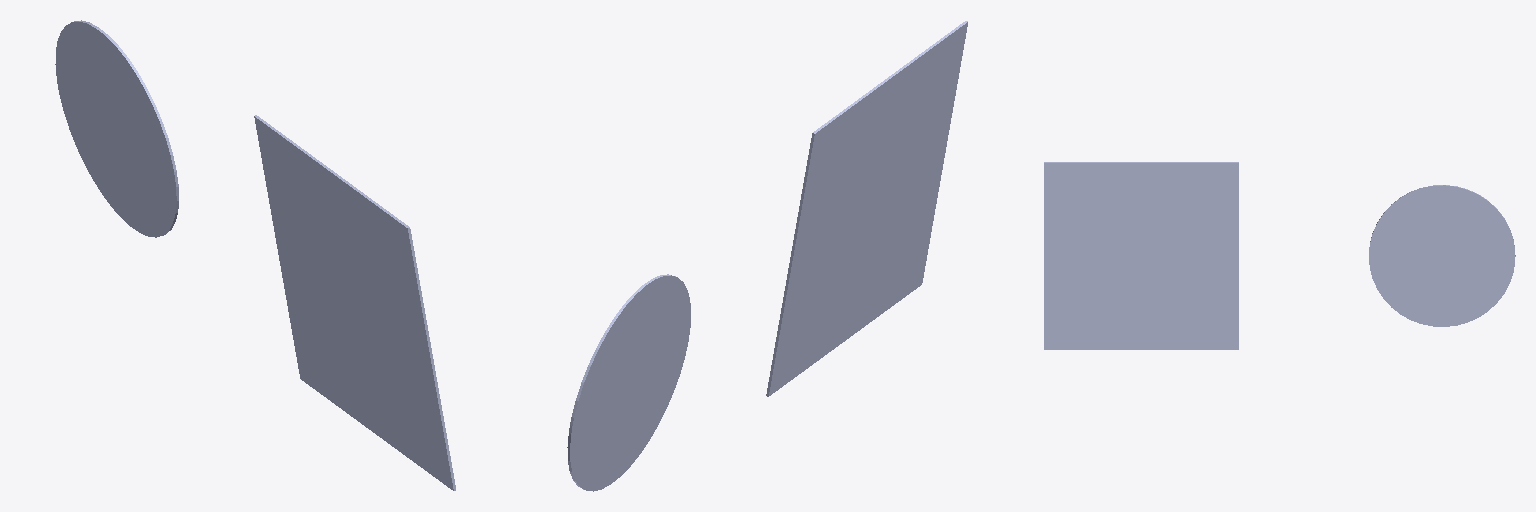
robot.urdf — freight:
<robot name="freight">
  <link name="base_link">
    <inertial>
      <origin rpy="0 0 0" xyz="-0.0036 0.0 0.0014" />
      <mass value="70.1294" />
      <inertia ixx="1.225" ixy="0.0099" ixz="0.0062" iyy="1.2853" iyz="-0.0034" izz="0.987" />
    </inertial>
    <visual>
      <origin rpy="0 0 0" xyz="0 0 0" />
      <geometry>
        <mesh filename="package://fetch_description/meshes/base_link.dae" />
      </geometry>
      <material name="">
        <color rgba="0.356 0.361 0.376 1" />
      </material>
    </visual>
    <collision>
      <origin rpy="0 0 0" xyz="0 0 0" />
      <geometry>
        <mesh filename="package://fetch_description/meshes/base_link_collision.STL" />
      </geometry>
    </collision>
  </link>
  <link name="r_wheel_link">
    <inertial>
      <origin rpy="0 0 0" xyz="0 0 0" />
      <mass value="4.3542" />
      <inertia ixx="0.0045" ixy="0" ixz="0" iyy="0.005" iyz="0" izz="0.0045" />
    </inertial>
    <visual>
      <origin rpy="0 0 0" xyz="0 0 0" />
      <geometry>
        <mesh filename="package://fetch_description/meshes/r_wheel_link.STL" />
      </geometry>
      <material name="">
        <color rgba="0.086 0.506 0.767 1" />
      </material>
    </visual>
    <collision>
      <origin rpy="0 0 0" xyz="0 0 0" />
      <geometry>
        <mesh filename="package://fetch_description/meshes/r_wheel_link_collision.STL" />
      </geometry>
    </collision>
  </link>
  <joint name="r_wheel_joint" type="continuous">
    <origin rpy="-6.123E-17 0 0" xyz="0.0012914 -0.18738 0.055325" />
    <parent link="base_link" />
    <child link="r_wheel_link" />
    <axis xyz="0 1 0" />
  <limit effort="8.85" velocity="34.8" /></joint>
  <link name="l_wheel_link">
    <inertial>
      <origin rpy="0 0 0" xyz="0 0 0" />
      <mass value="4.3542" />
      <inertia ixx="0.0045" ixy="0" ixz="0" iyy="0.005" iyz="0" izz="0.0045" />
    </inertial>
    <visual>
      <origin rpy="0 0 0" xyz="0 0 0" />
      <geometry>
        <mesh filename="package://fetch_description/meshes/l_wheel_link.STL" />
      </geometry>
      <material name="">
        <color rgba="0.086 0.506 0.767 1" />
      </material>
    </visual>
    <collision>
      <origin rpy="0 0 0" xyz="0 0 0" />
      <geometry>
        <mesh filename="package://fetch_description/meshes/l_wheel_link_collision.STL" />
      </geometry>
    </collision>
  </link>
  <joint name="l_wheel_joint" type="continuous">
    <origin rpy="-6.123E-17 0 0" xyz="0.0012914 0.18738 0.055325" />
    <parent link="base_link" />
    <child link="l_wheel_link" />
    <axis xyz="0 1 0" />
  <limit effort="8.85" velocity="34.8" /></joint>
  <link name="estop_link">
    <inertial>
      <origin rpy="0 0 0" xyz="0.002434512737072 -0.00330608315239905 0.00665139196650039" />
      <mass value="0.00196130439134723" />
      <inertia ixx="3.02810026604417E-07" ixy="-1.5862023118056E-08" ixz="3.16561396557437E-08" iyy="2.93322917127605E-07" iyz="-4.28833522751273E-08" izz="2.28513272627183E-07" />
    </inertial>
    <visual>
      <origin rpy="0 0 0" xyz="0 0 0" />
      <geometry>
        <mesh filename="package://fetch_description/meshes/estop_link.STL" />
      </geometry>
      <material name="">
        <color rgba="0.8 0 0 1" />
      </material>
    </visual>
    <collision>
      <origin rpy="0 0 0" xyz="0 0 0" />
      <geometry>
        <mesh filename="package://fetch_description/meshes/estop_link.STL" />
      </geometry>
    </collision>
  </link>
  <joint name="estop_joint" type="fixed">
    <origin rpy="1.5708 0 0" xyz="-0.12465 0.23892 0.31127" />
    <parent link="base_link" />
    <child link="estop_link" />
    <axis xyz="0 0 0" />
  </joint>
  <link name="laser_link">
    <inertial>
      <origin rpy="0 0 0" xyz="-0.0306228970175641 0.0007091682908278 0.0551974119471302" />
      <mass value="0.00833634573995571" />
      <inertia ixx="1.01866461240801E-06" ixy="-5.88447626567756E-08" ixz="7.83857244757914E-08" iyy="5.10039589974707E-07" iyz="-7.12664289617235E-09" izz="1.28270671527309E-06" />
    </inertial>
    <visual>
      <origin rpy="0 0 0" xyz="0 0 0" />
      <geometry>
        <mesh filename="package://fetch_description/meshes/laser_link.STL" />
      </geometry>
      <material name="">
        <color rgba="0.792156862745098 0.819607843137255 0.933333333333333 1" />
      </material>
    </visual>
    <collision>
      <origin rpy="0 0 0" xyz="0 0 0" />
      <geometry>
        <mesh filename="package://fetch_description/meshes/laser_link.STL" />
      </geometry>
    </collision>
  </link>
  <joint name="laser_joint" type="fixed">
    <origin rpy="3.14159265359 0 0" xyz="0.235 0 0.2878" />
    <parent link="base_link" />
    <child link="laser_link" />
    <axis xyz="0 0 0" />
  </joint>
 <link
    name="base_camera_link">
    <inertial>
      <origin
        xyz="-5.000000000005E-05 -0.00301833774752248 2.77555756156289E-17"
        rpy="0 0 0" />
      <mass
        value="1.52235477189066E-05" />
      <inertia
        ixx="1.03983633297402E-09"
        ixy="-2.82787329326897E-24"
        ixz="-1.08567455397585E-24"
        iyy="1.09705387231965E-10"
        iyz="5.07721309677765E-25"
        izz="9.30156318321584E-10" />
    </inertial>
    <visual>
      <origin
        xyz="0 0 0"
        rpy="0 0 0" />
      <geometry>
        <mesh
          filename="package://fetch_description/meshes/base_camera_link.DAE" />
      </geometry>
      <material
        name="">
        <color
          rgba="0.792156862745098 0.819607843137255 0.933333333333333 1" />
      </material>
    </visual>
    <collision>
      <origin
        xyz="0 0 0"
        rpy="0 0 0" />
      <geometry>
        <mesh
          filename="package://fetch_description/meshes/base_camera_link.DAE" />
      </geometry>
    </collision>
  </link>
  <joint
    name="base_camera_joint"
    type="fixed">
    <origin
      xyz="0.264511452618556 -0.00793916712988701 0.198680360086821"
      rpy="-6.21748940377806E-17 -0.17453292519943 1.07965570462949E-17" />
    <parent
      link="base_link" />
    <child
      link="base_camera_link" />
    <axis
      xyz="0 0 0" />
  </joint>
</robot>

--- What the picture shows (computed from the rendered views, not written in the file) ---
Views: 3 orthographic renders of the robot side by side, from view 1: azimuth 30°, elevation 25°; view 2: azimuth 150°, elevation 25°; view 3: azimuth 270°, elevation 25°.
Robot: freight — 6 links, 5 joints (2 continuous, 3 fixed); root link base_link; default pose: all joints at 0.
Links seen in each view (by area): view 1: base_camera_link; view 2: base_camera_link; view 3: base_camera_link.
Boxes of the visible links, x1,y1,x2,y2 form: base_camera_link: (55, 20, 455, 490); base_camera_link: (567, 21, 967, 491); base_camera_link: (1044, 162, 1515, 349).
Size in the robot's own frame: 0.0019 by 0.0249 by 0.0101 metres.
1 mesh visuals loaded from 6 distinct referenced files (1 Collada DAE); not drawn: 5 (reference not matched to a file when rendering).